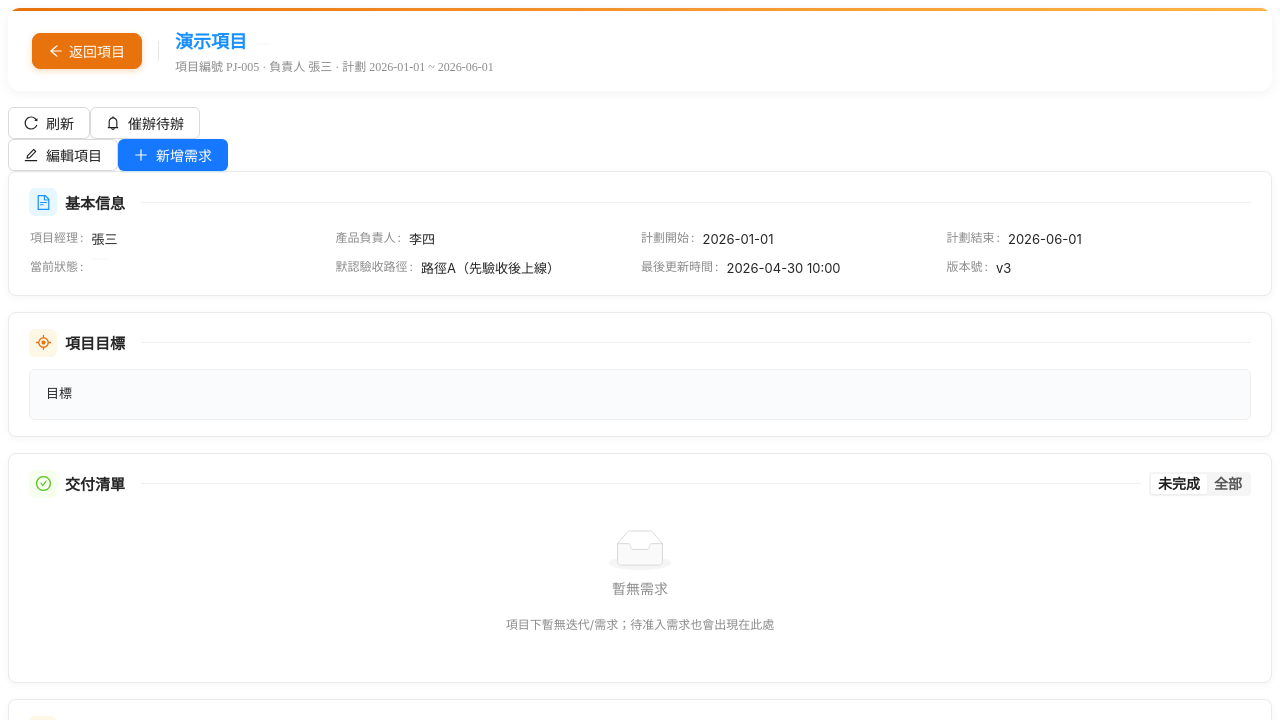
Scenario: ProjectDetail 催辦結果展示 › 點擊催辦調用 urgeProject(5) 並展示六類計數 + 提醒日 + notes + executeOnce 回放說明
Click the button "催辦待辦" at (145, 123), box left=90, top=107, right=200, bottom=139
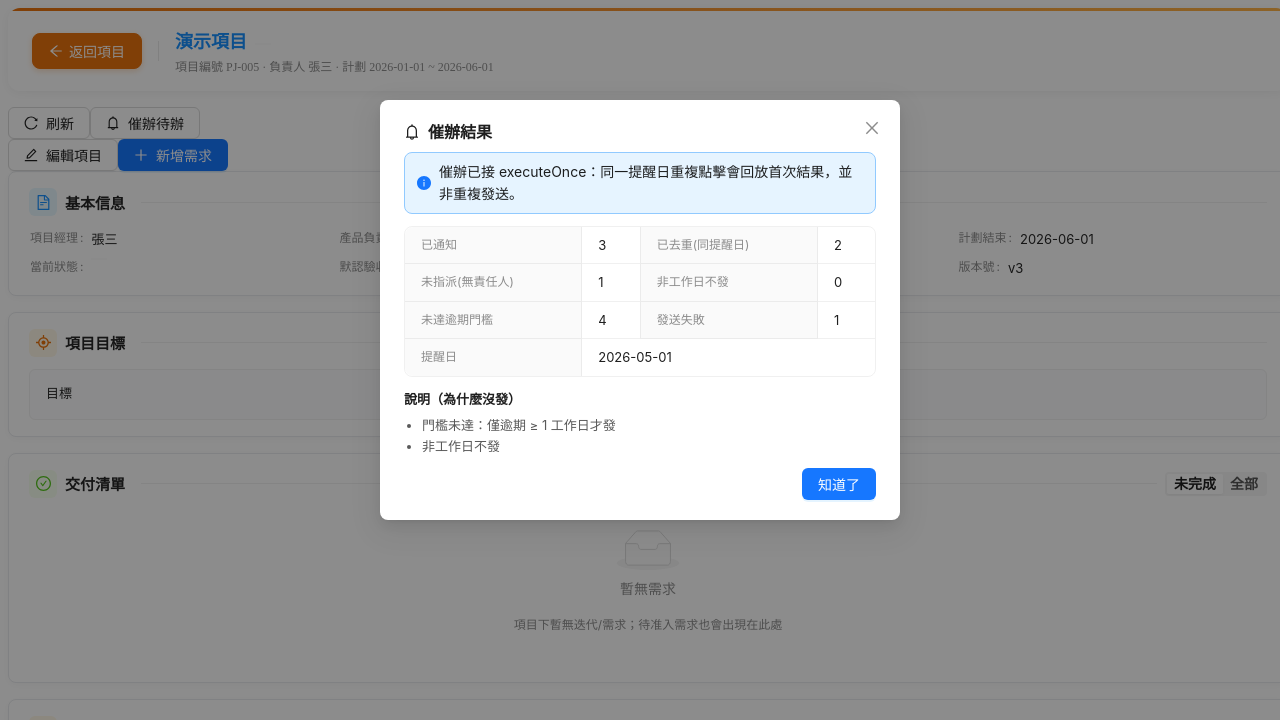
Check: the text "催辦已接 executeOnce：同一提醒日重複點擊會回放首次結果，並非重複發送。" is shown, box left=439, top=161, right=863, bottom=205
Check: the text "已通知" is shown, box left=421, top=237, right=457, bottom=252
Check: the text "已去重(同提醒日)" is shown, box left=657, top=237, right=749, bottom=252
